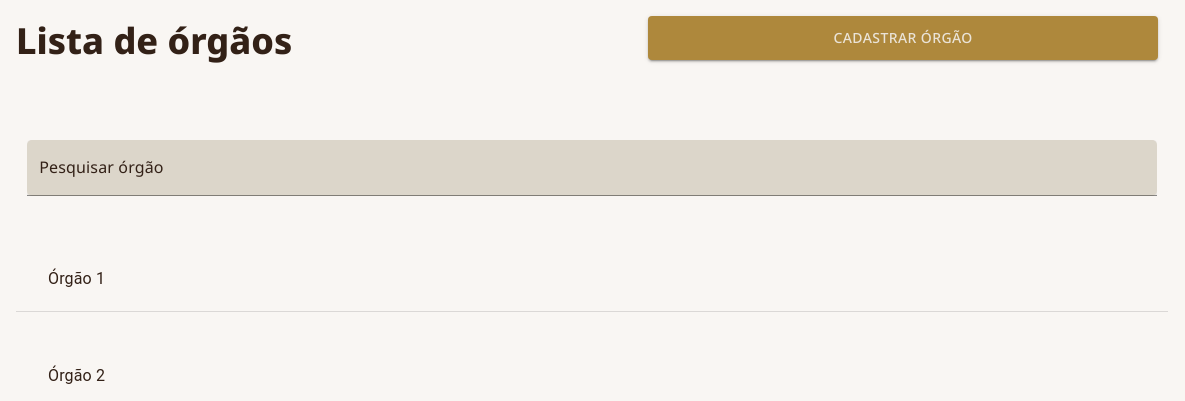
it: OrganList › filters organs based on search input
The image size is (1185, 401).
Type "1" into the field labelled "Pesquisar órgão" at (592, 168), box [27,140,1157,196]
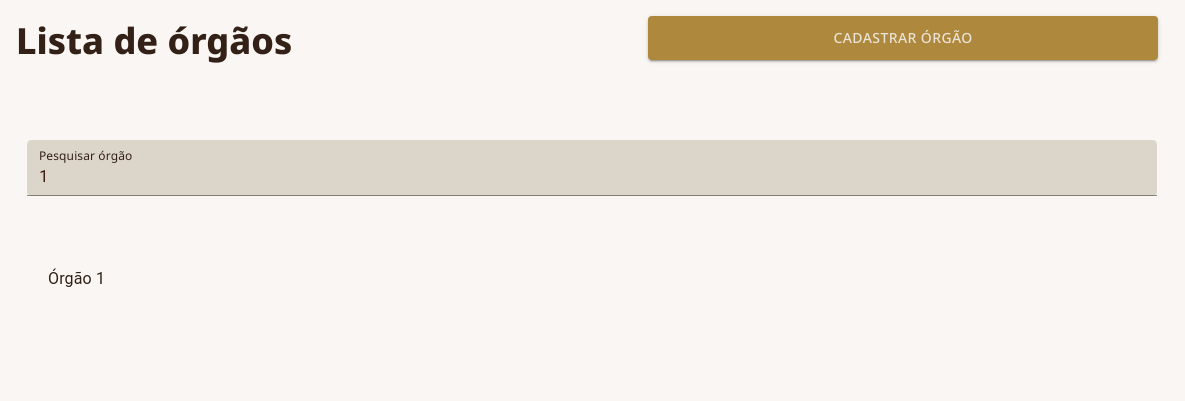
Expected: the text "Órgão 1" is shown, [48,269,105,288]
Expected: the button "Órgão 2" is gone
